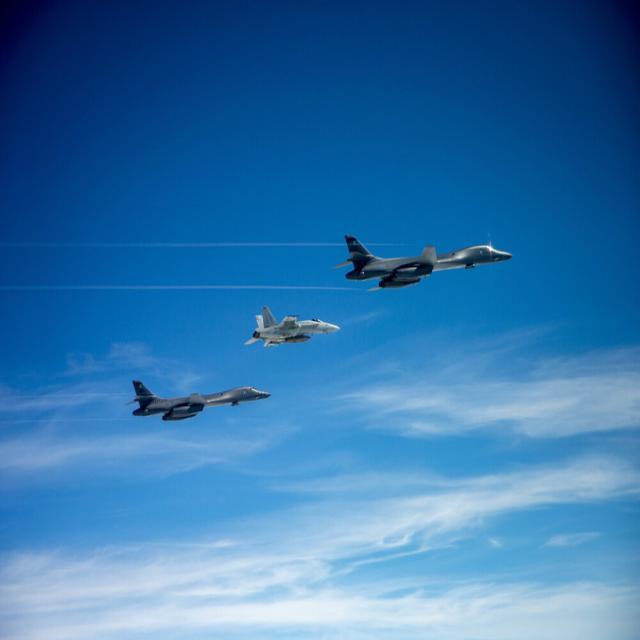MIL_Plane: (363, 234, 482, 292), (153, 373, 239, 415), (250, 305, 334, 348)
